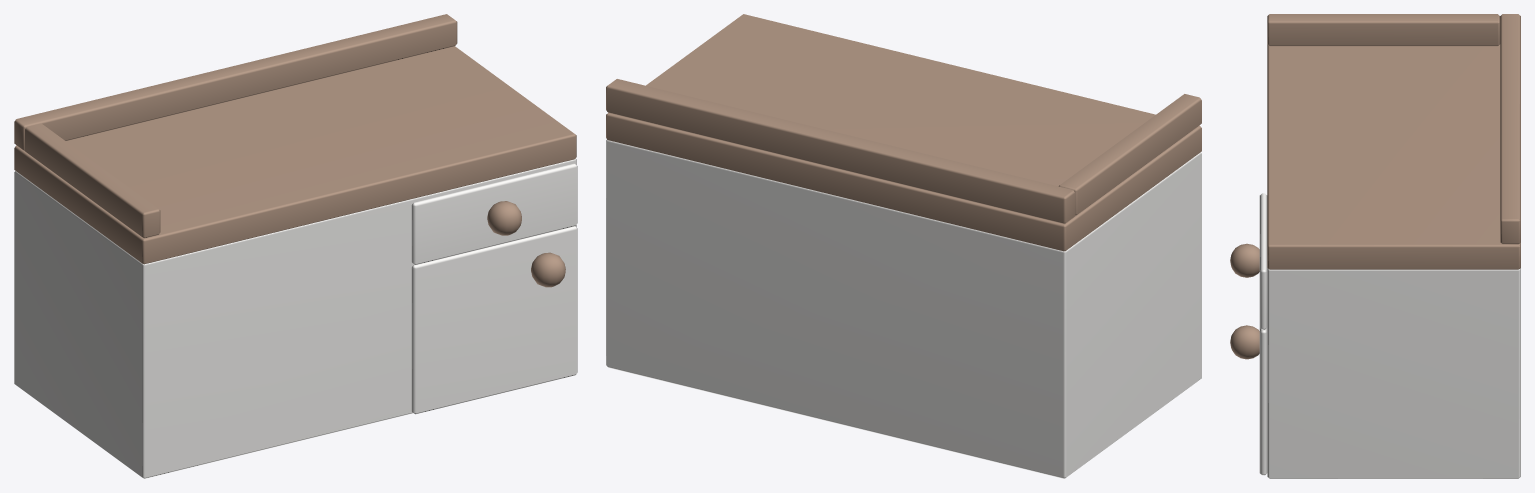
The model's file is Drawer_brown_5.glb.
3 views of the same model, side by side, from view 1: azimuth 30°, elevation 25°; view 2: azimuth 150°, elevation 25°; view 3: azimuth 270°, elevation 25° (orthographic). The views are drawn at different scales.
Visible parts, largest first — view 1: Kitchen_Cabinet_6; view 2: Kitchen_Cabinet_6; view 3: Kitchen_Cabinet_6.
Part boxes in pixels (bbox=[...]): Kitchen_Cabinet_6: bbox=[14, 14, 577, 478]; Kitchen_Cabinet_6: bbox=[606, 14, 1201, 478]; Kitchen_Cabinet_6: bbox=[1230, 14, 1520, 478].
Bounding box in the file's own units: 1.78 × 1.04 × 1.06.
1 material, 1 textured.
